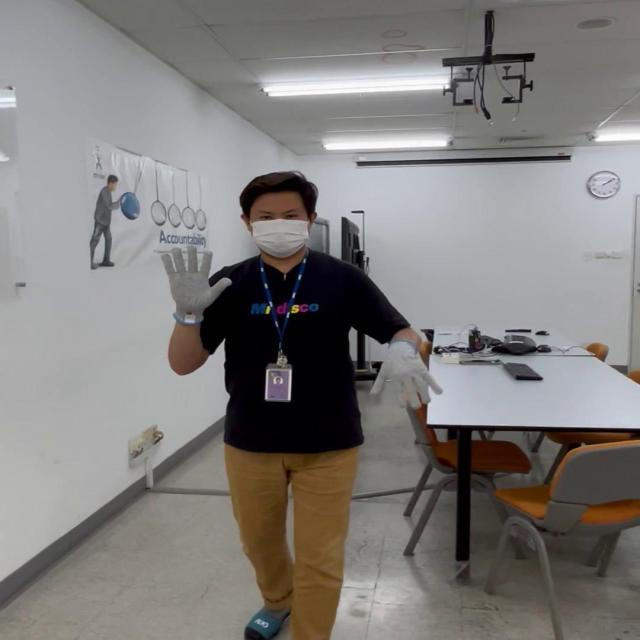gloved_hand: (158, 241, 245, 326), (369, 339, 446, 414)
